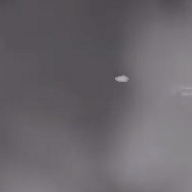Target: (115, 75, 129, 82)
